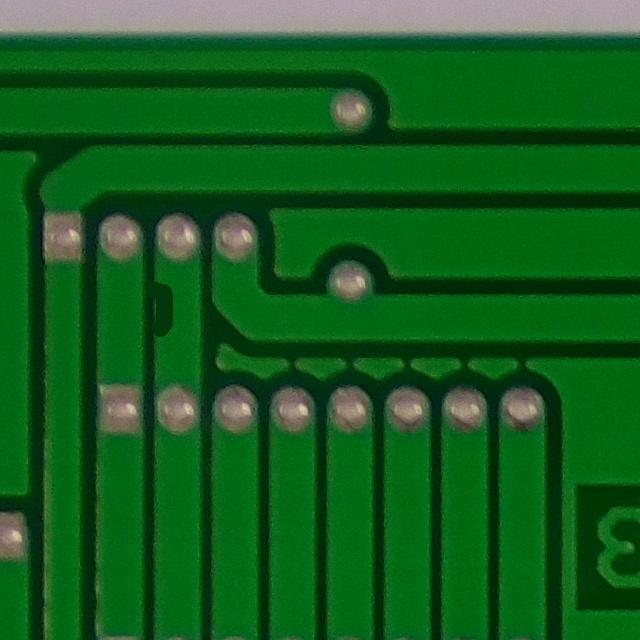mouse_bite: (139, 264, 195, 348)
